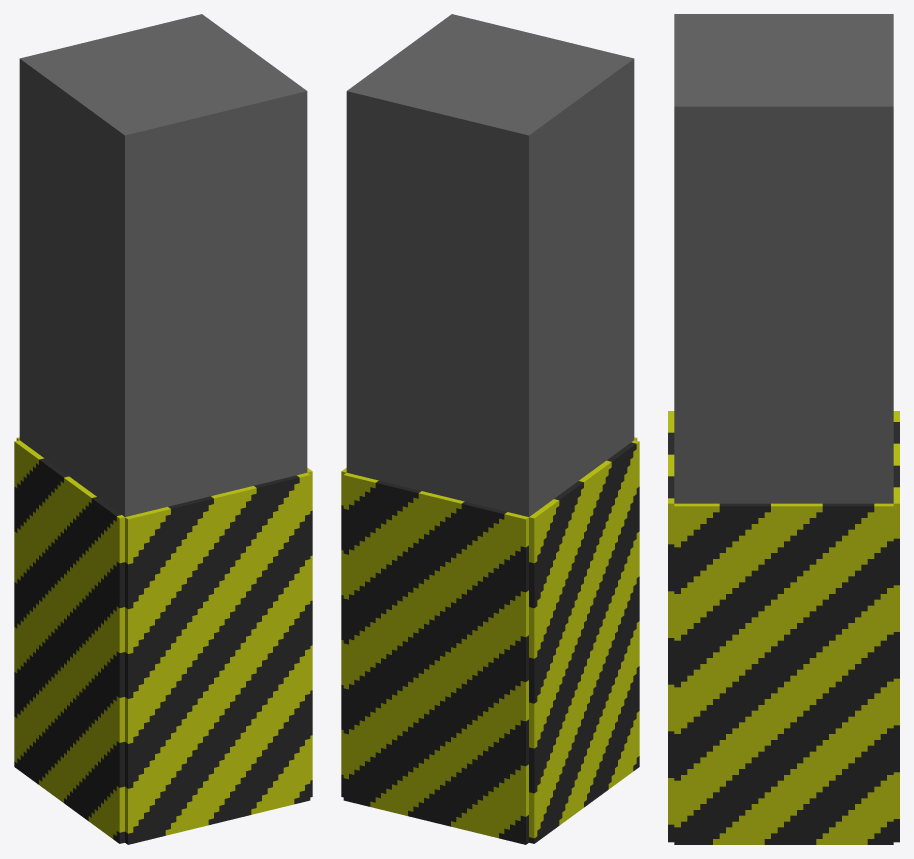
Rendered from Pillar2.fbx.
The picture shows the model from 3 angles, left to right: view 1: azimuth 30°, elevation 25°; view 2: azimuth 150°, elevation 25°; view 3: azimuth 270°, elevation 25°; orthographic projection. The views are drawn at different scales.
Visible parts, largest first — view 1: Pillar2.005, Pillar2.003, Pillar2.002, Pillar2.001; view 2: Pillar2.005, Pillar2.004, Pillar2.002, Pillar2.001; view 3: Pillar2.005, Pillar2.001, Pillar2.004, Pillar2.003.
Part boxes in pixels (x1,y1,x2,y2): Pillar2.005: (19,14,307,516); Pillar2.003: (125,473,310,844); Pillar2.002: (14,440,124,843); Pillar2.001: (307,468,312,797); Pillar2.005: (346,14,634,516); Pillar2.004: (343,473,528,844); Pillar2.002: (529,440,639,843); Pillar2.001: (341,468,346,797); Pillar2.005: (674,14,893,503); Pillar2.001: (674,503,893,844); Pillar2.004: (893,411,899,842); Pillar2.003: (668,411,674,842).
Bounding box in the file's own units: 3.6 × 12.6 × 3.6.
